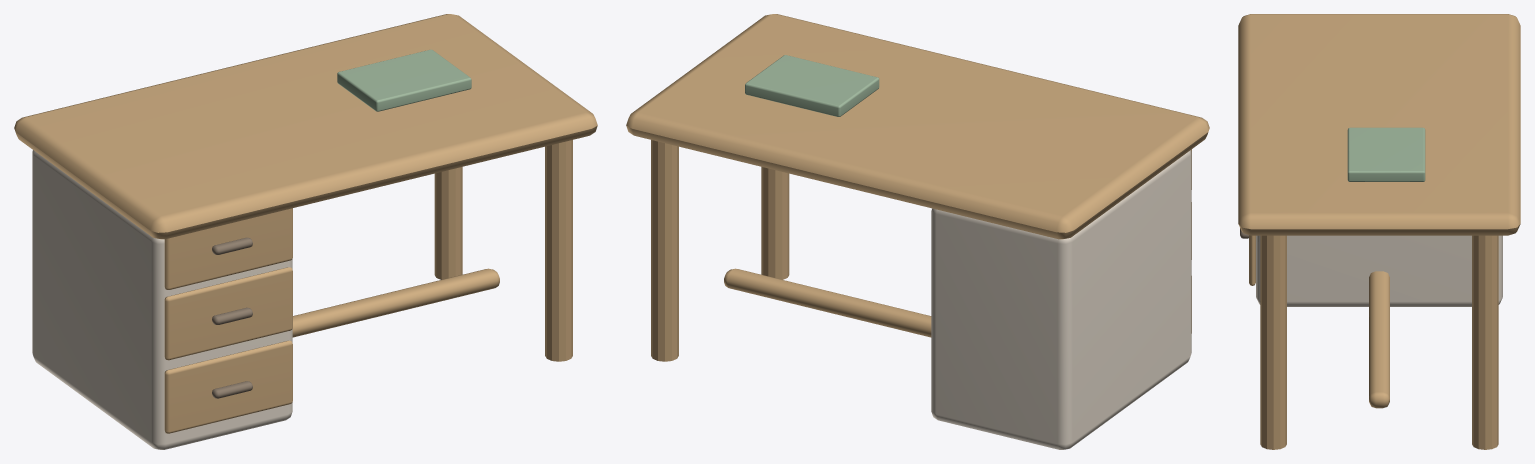
The model's file is table.glb.
3 renders of one model, left to right at view 1: azimuth 30°, elevation 25°; view 2: azimuth 150°, elevation 25°; view 3: azimuth 270°, elevation 25°, orthographic. The views are drawn at different scales.
Visible parts, largest first — view 1: top, drawer_unit, drawer_1, drawer_0, drawer_2, leg_r_-0.3, book, stretcher, leg_r_0.3; view 2: top, drawer_unit, leg_r_0.3, book, stretcher, leg_r_-0.3; view 3: top, drawer_unit, leg_r_0.3, leg_r_-0.3, book, stretcher, drawer_0.
Part boxes in pixels (x1,y1,x2,y2): top: (14, 14, 597, 239); drawer_unit: (32, 150, 292, 449); drawer_1: (164, 267, 292, 360); drawer_0: (164, 340, 292, 433); drawer_2: (164, 208, 292, 289); leg_r_-0.3: (545, 140, 572, 361); book: (337, 49, 471, 111); stretcher: (292, 268, 499, 337); leg_r_0.3: (434, 167, 462, 279); top: (626, 14, 1209, 239); drawer_unit: (931, 150, 1191, 449); leg_r_0.3: (651, 140, 678, 361); book: (745, 55, 879, 116); stretcher: (724, 268, 931, 337); leg_r_-0.3: (761, 167, 789, 279); top: (1238, 14, 1520, 235); drawer_unit: (1256, 235, 1502, 306); leg_r_0.3: (1472, 235, 1498, 449); leg_r_-0.3: (1260, 235, 1286, 449); book: (1347, 127, 1425, 181); stretcher: (1369, 271, 1389, 408); drawer_0: (1249, 235, 1255, 285).
Size of the model in its own units: 1.4 by 0.7825 by 0.8.
